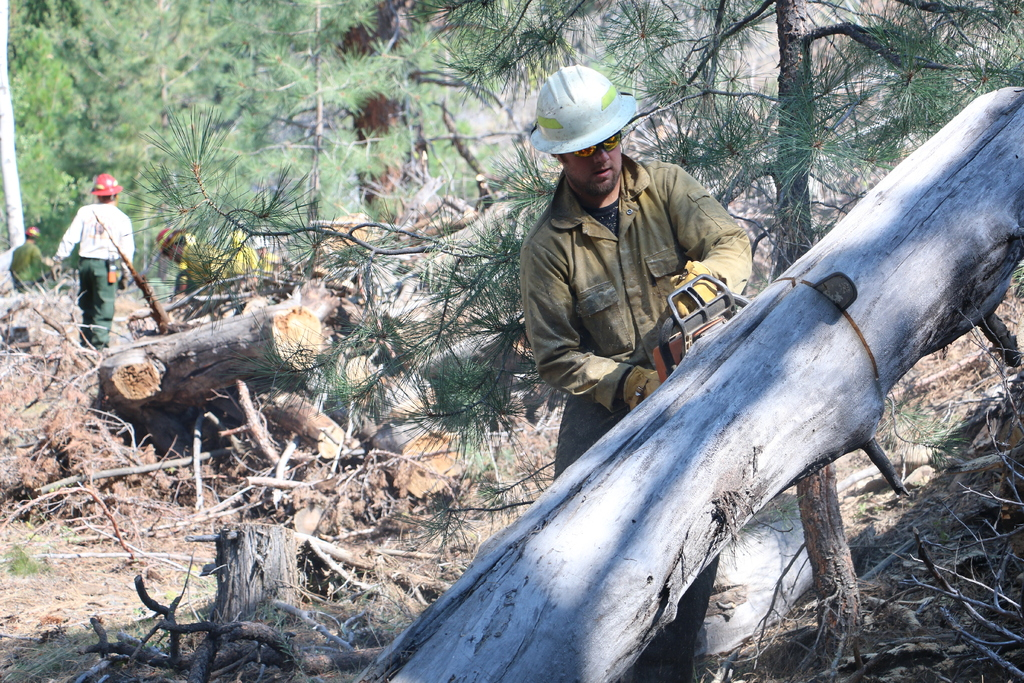Tree: (64, 0, 1024, 625)
